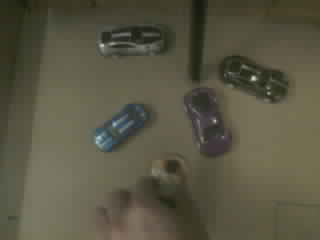Car: (184, 88, 231, 156), (222, 57, 287, 101), (95, 104, 148, 151), (98, 25, 164, 54), (152, 159, 184, 190)
